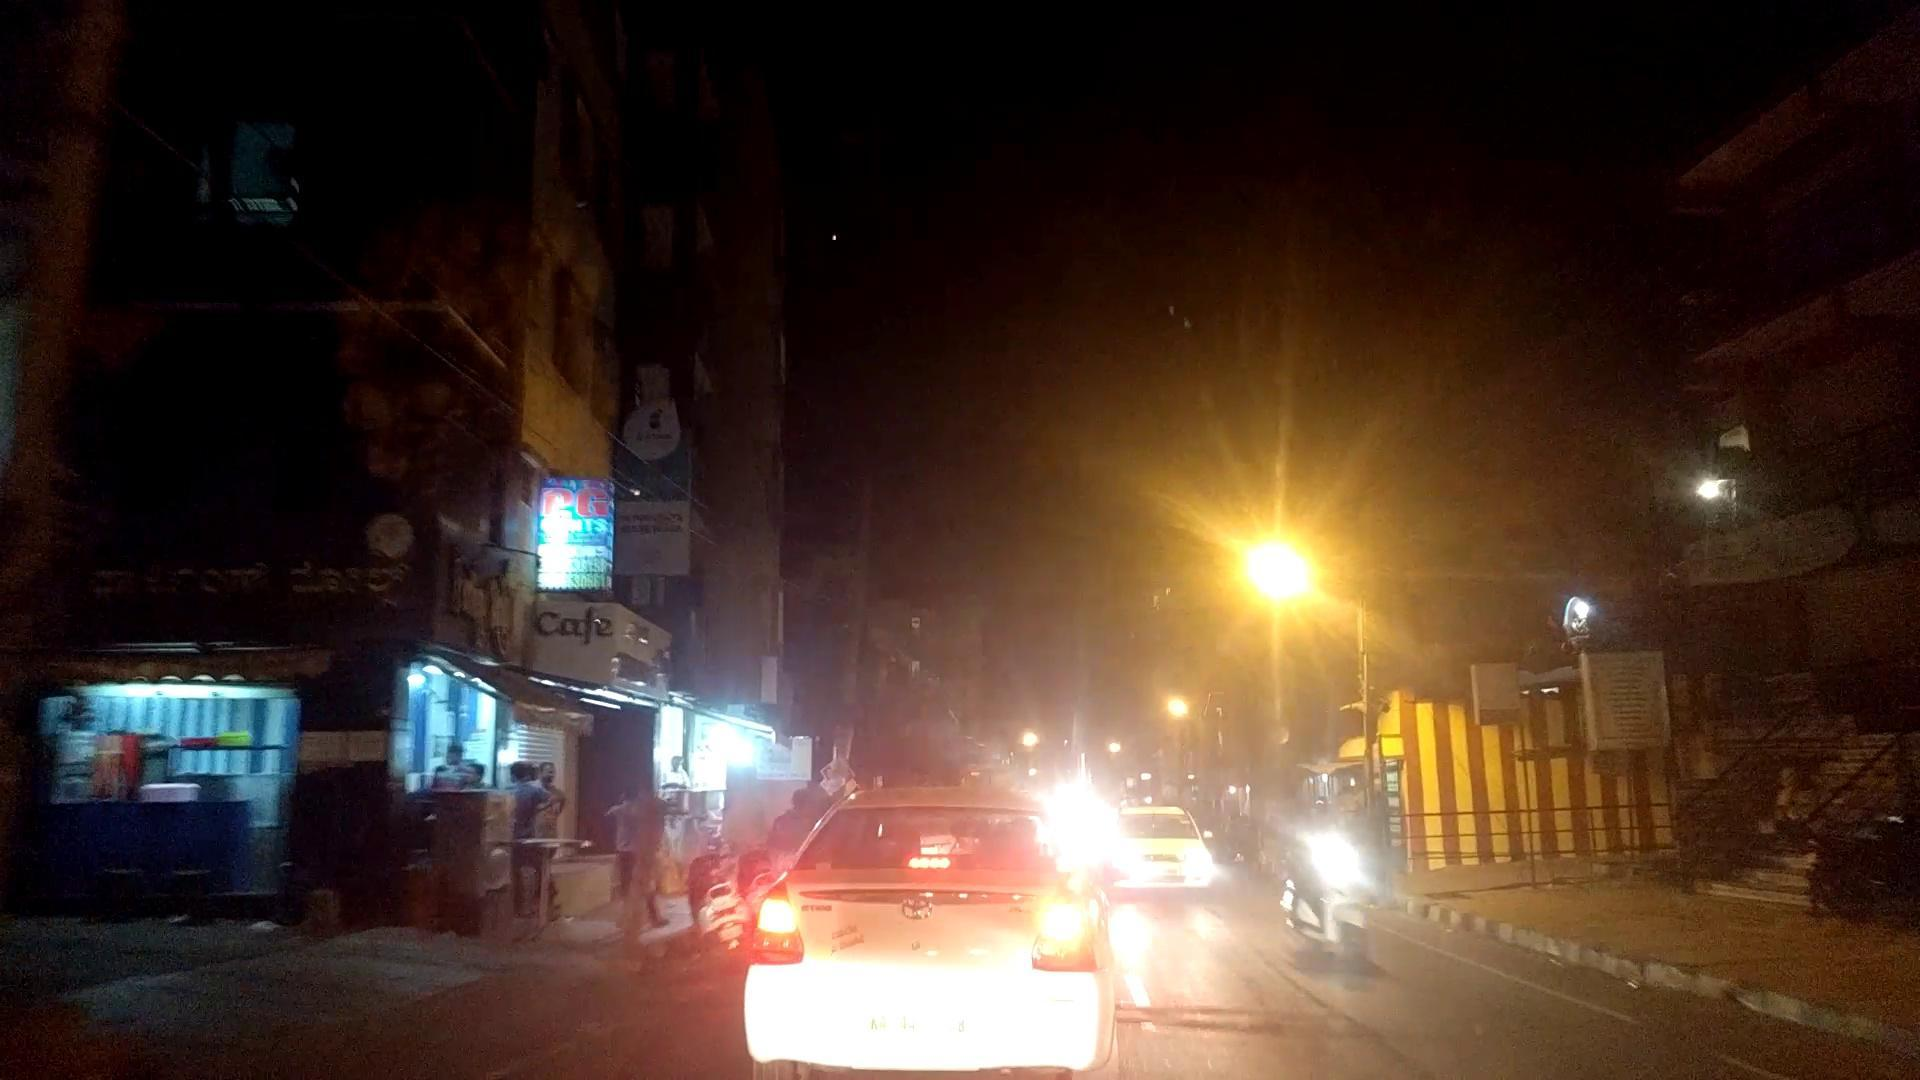on: (1174, 382, 1399, 691)
